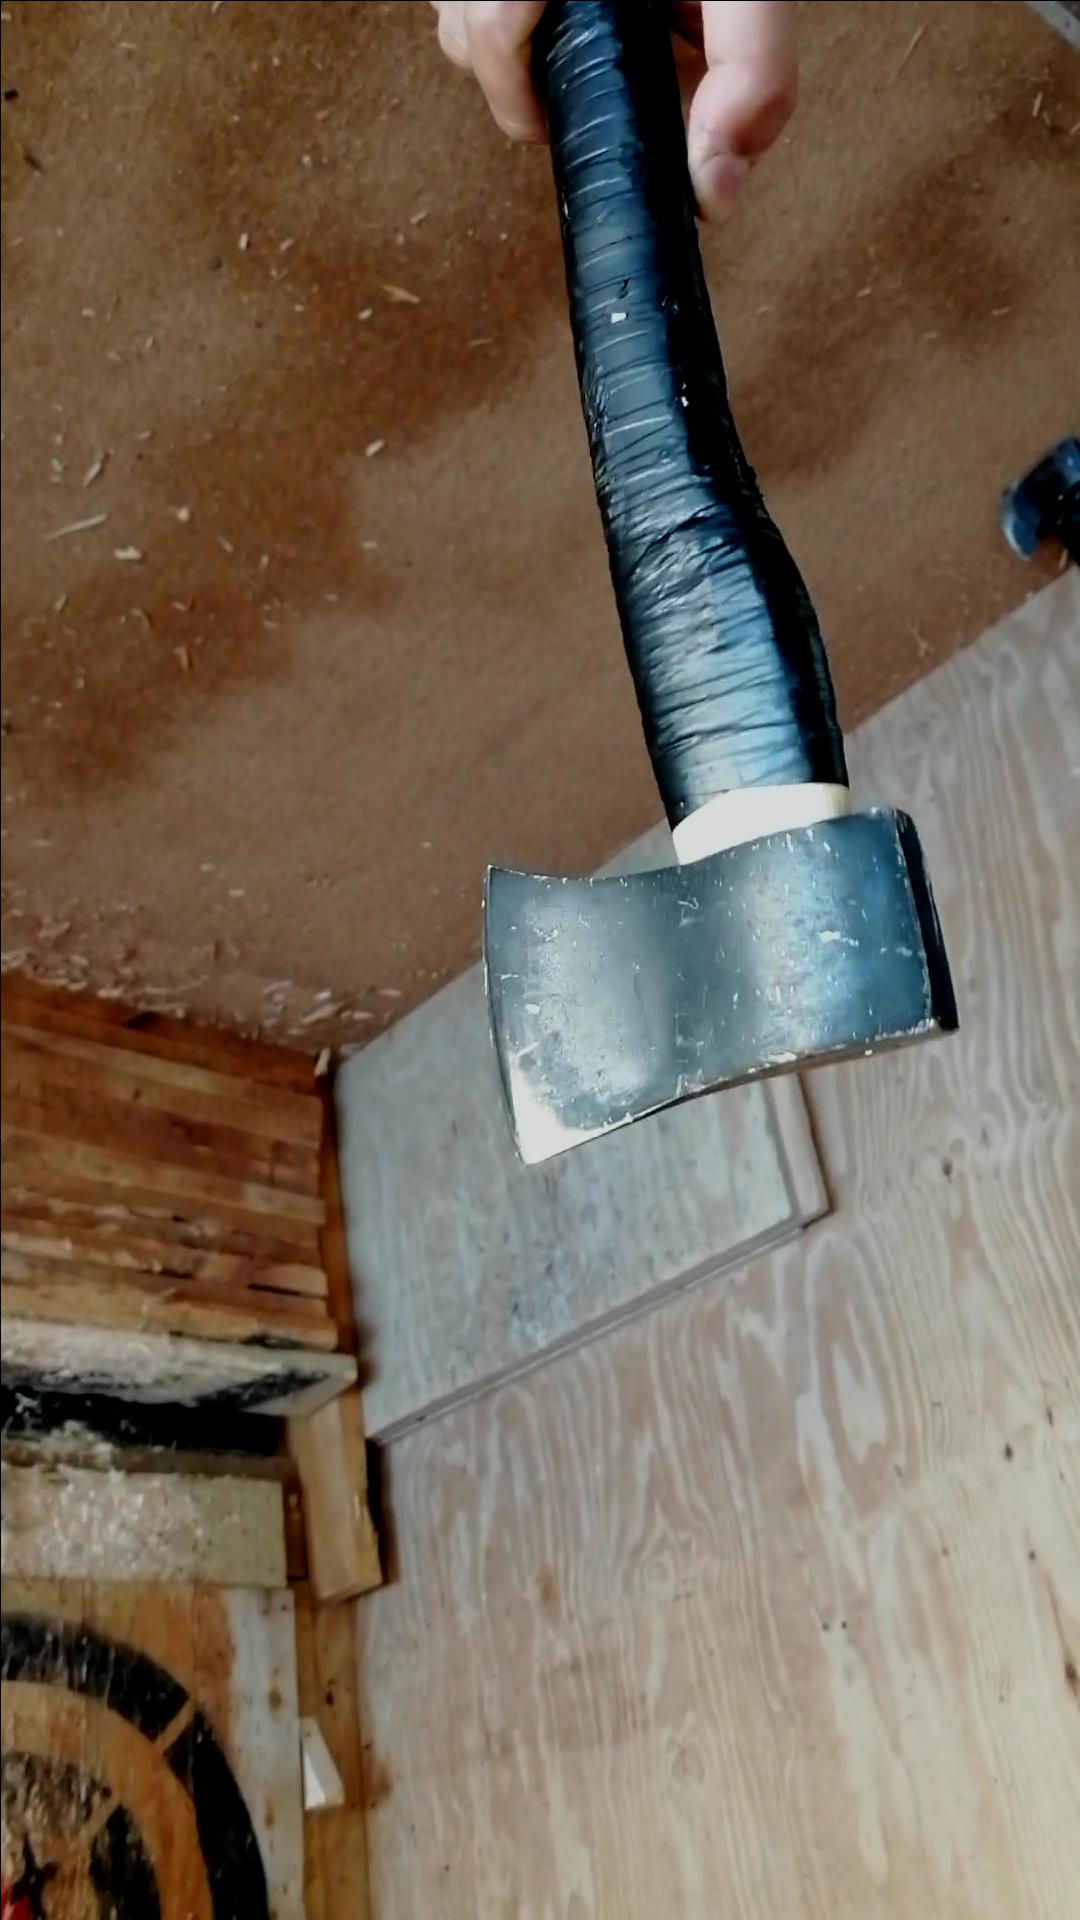Hand Axe: (478, 805, 962, 1167)
